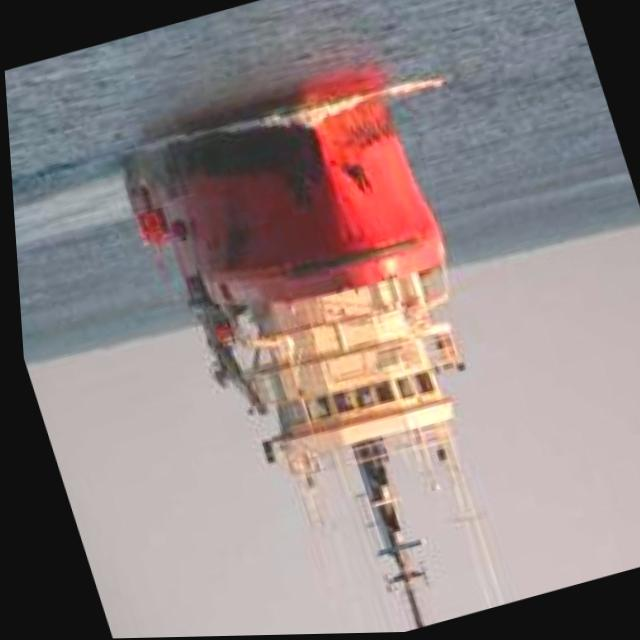ship2: (119, 95, 502, 634)
